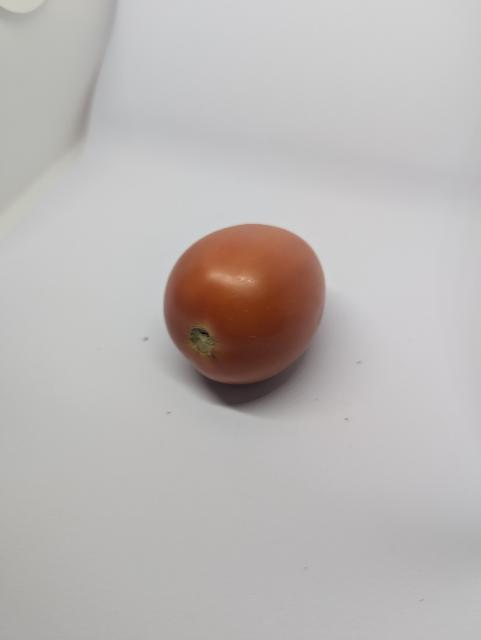red: (159, 216, 331, 396)
